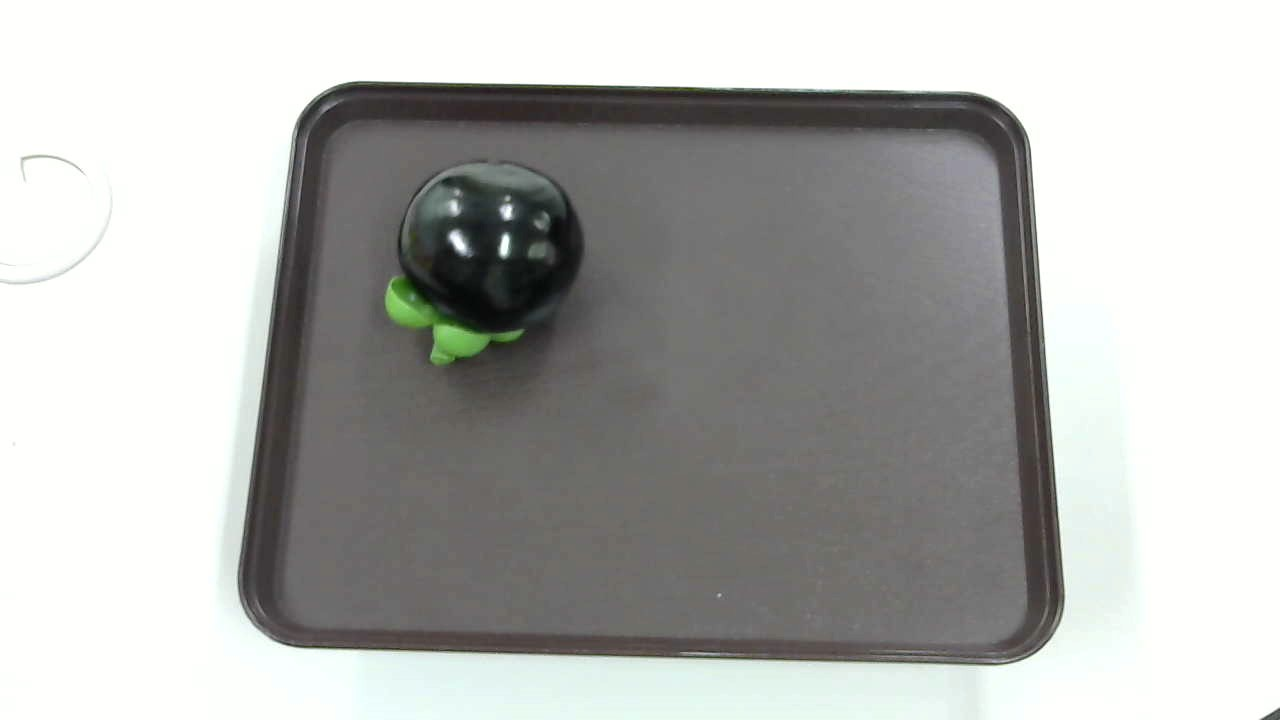mangosteen: (374, 151, 601, 371)
